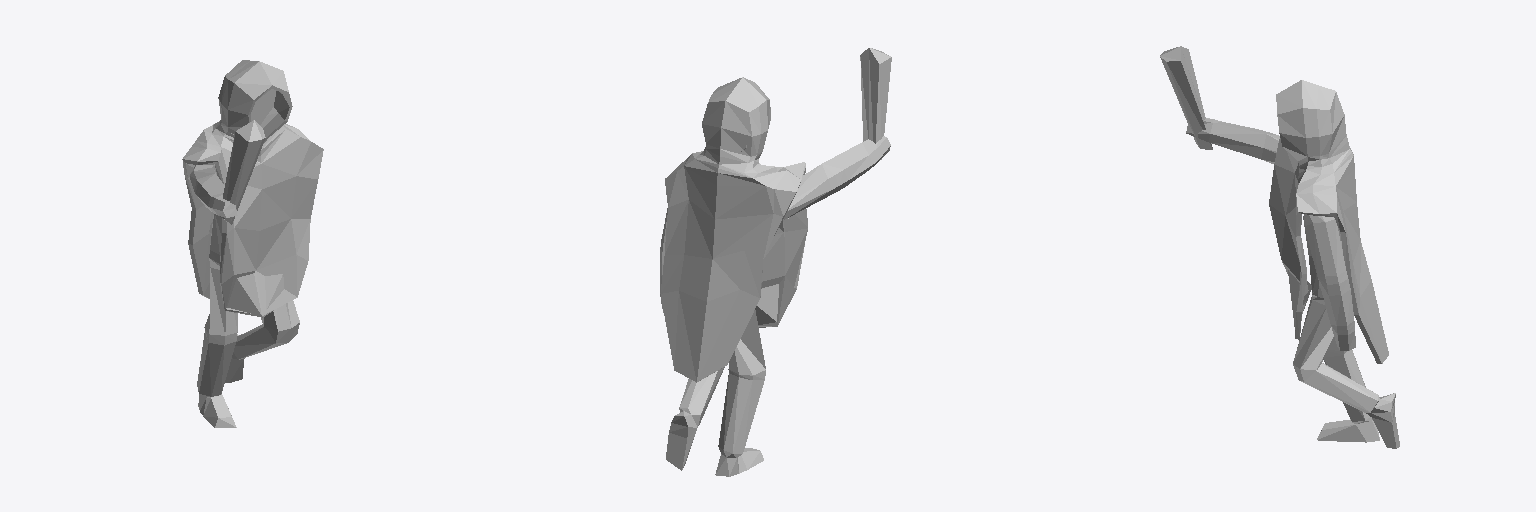
File: Dude_Walk2.obj
The picture shows the model from 3 angles: view 1: azimuth 30°, elevation 25°; view 2: azimuth 150°, elevation 25°; view 3: azimuth 270°, elevation 25°; orthographic projection.
Parts seen in each view (by area): view 1: Dude.HOOD_Cube.001, Dude.BOD_Cube, Cube_Cube.002; view 2: Dude.HOOD_Cube.001, Dude.BOD_Cube, Cube_Cube.002; view 3: Dude.HOOD_Cube.001, Dude.BOD_Cube, Cube_Cube.002.
Part boxes in pixels (x1,y1,x2,y2): Dude.HOOD_Cube.001: (182,60,323,317); Dude.BOD_Cube: (190,165,299,427); Cube_Cube.002: (220,120,265,224); Dude.HOOD_Cube.001: (660,77,807,382); Dude.BOD_Cube: (660,136,890,476); Cube_Cube.002: (860,48,891,159); Dude.HOOD_Cube.001: (1269,80,1388,363); Dude.BOD_Cube: (1186,118,1399,448); Cube_Cube.002: (1160,46,1212,149).
Bounding box in the file's own units: 2.5 × 5.66 × 3.34.